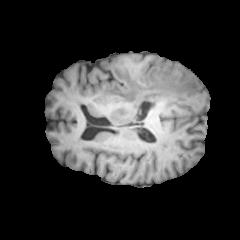glioma: (102, 65, 199, 124)
